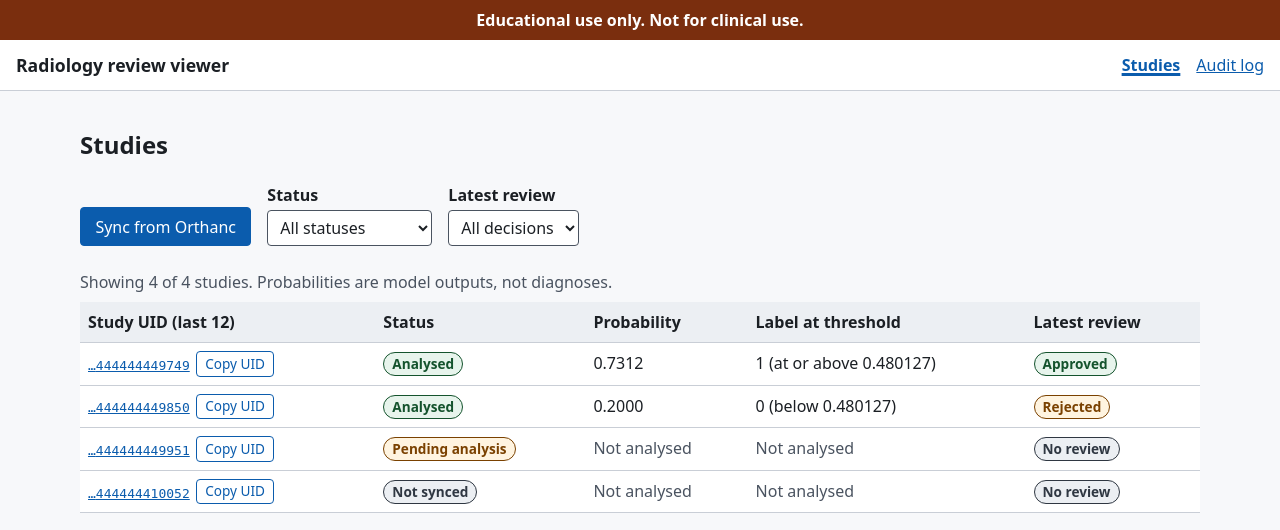
Test: study list › shows only the last 12 characters of each UID, with a copy button for the full one
What coordinates should you click on to do the following:
click the button "Copy UID" next to "444444449749"
I would click on:
 (235, 364)
Its box is left=196, top=351, right=274, bottom=377.
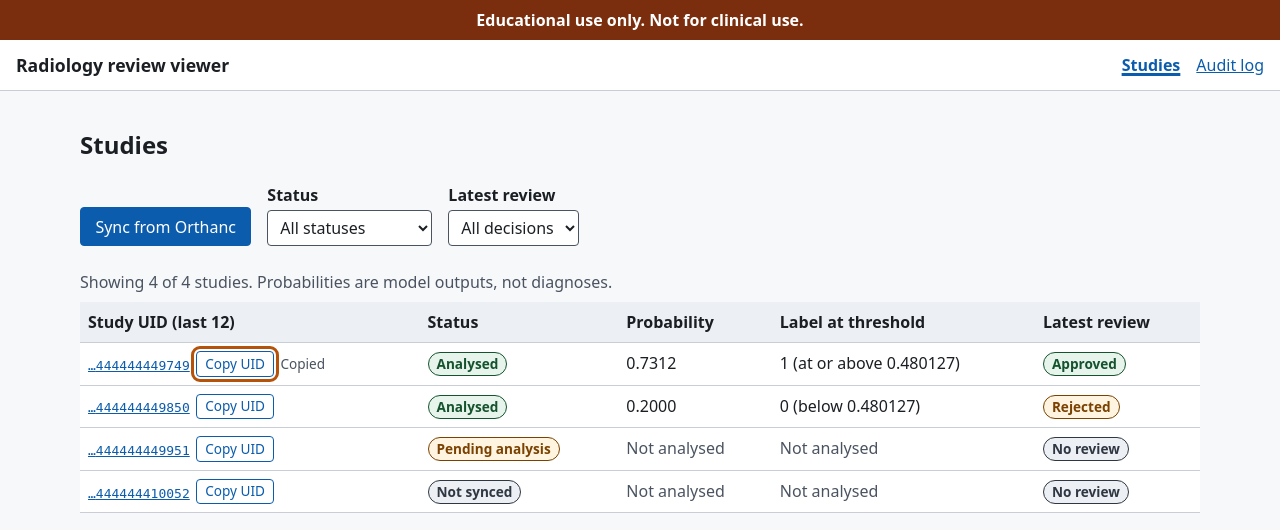
Now the text "Copied" is shown, box left=280, top=354, right=325, bottom=374
